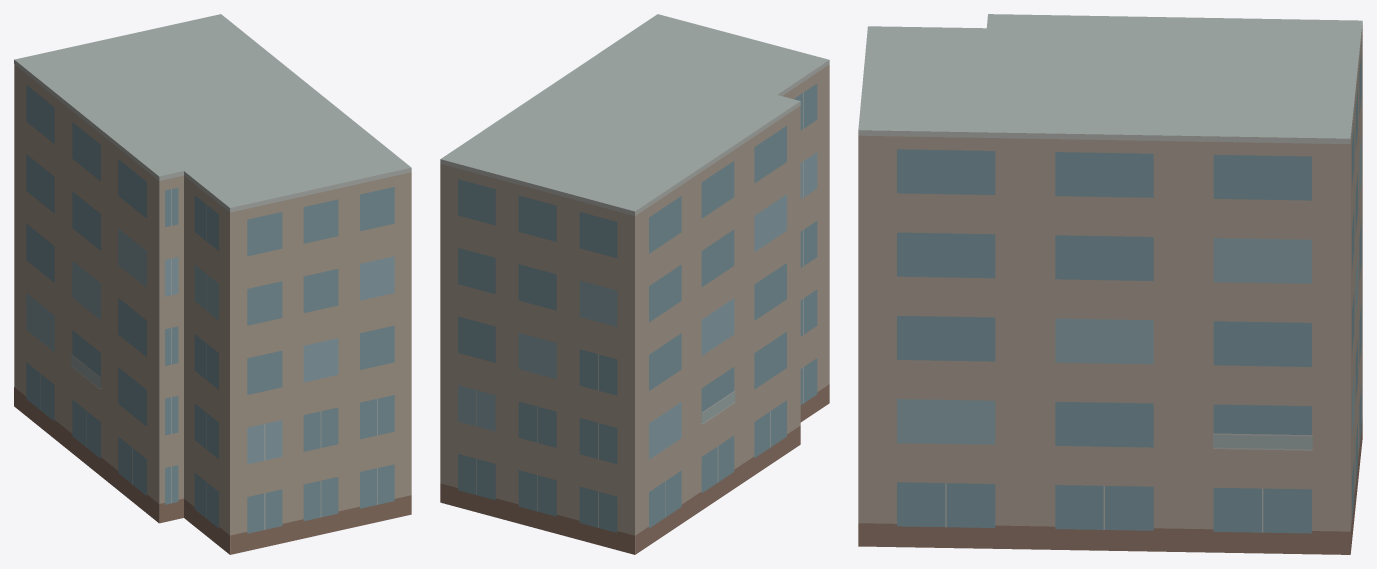
File: survey-upis-32868243.glb
The picture shows the model from 3 angles, left to right: view 1: azimuth 30°, elevation 25°; view 2: azimuth 150°, elevation 25°; view 3: azimuth 270°, elevation 25°; orthographic projection. The views are drawn at different scales.
Parts seen in each view (by area): view 1: survey-upis-32868243.tmp; view 2: survey-upis-32868243.tmp; view 3: survey-upis-32868243.tmp.
Part boxes in pixels (<box>): survey-upis-32868243.tmp: <box>14,14,411,554</box>; survey-upis-32868243.tmp: <box>440,14,829,554</box>; survey-upis-32868243.tmp: <box>858,14,1362,554</box>.
Bounding box in the file's own units: 11.96 × 18.6 × 20.44.
